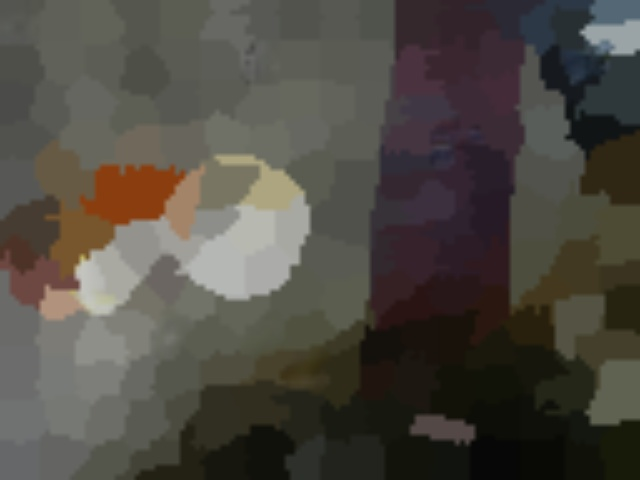eight: (202, 161, 255, 209)
